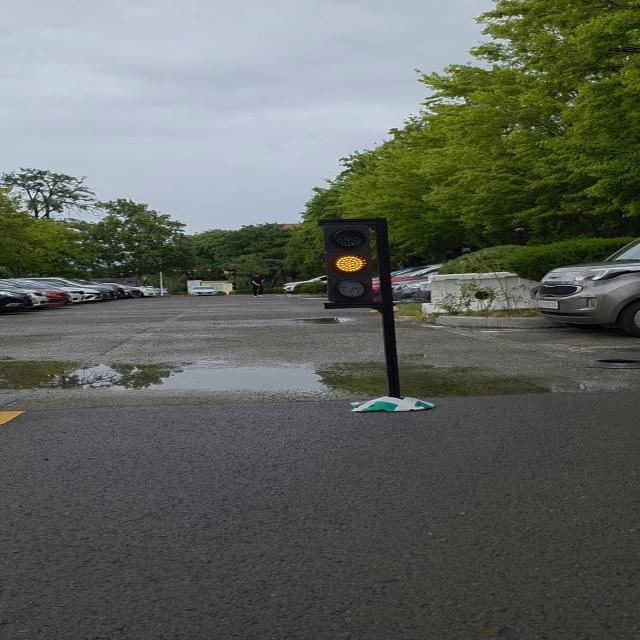yellow: (317, 214, 394, 311)
